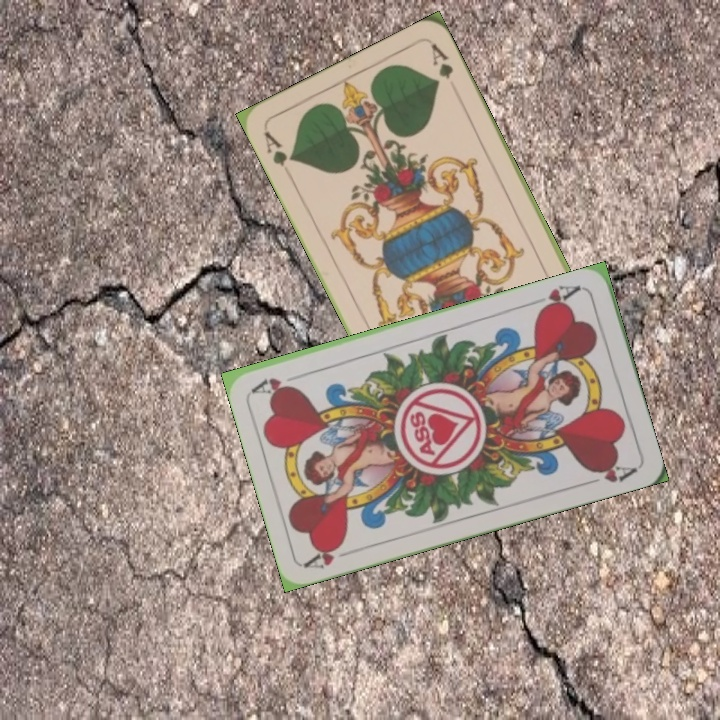GA: (260, 127, 297, 169)
HA: (528, 281, 586, 316), (302, 538, 360, 572)
